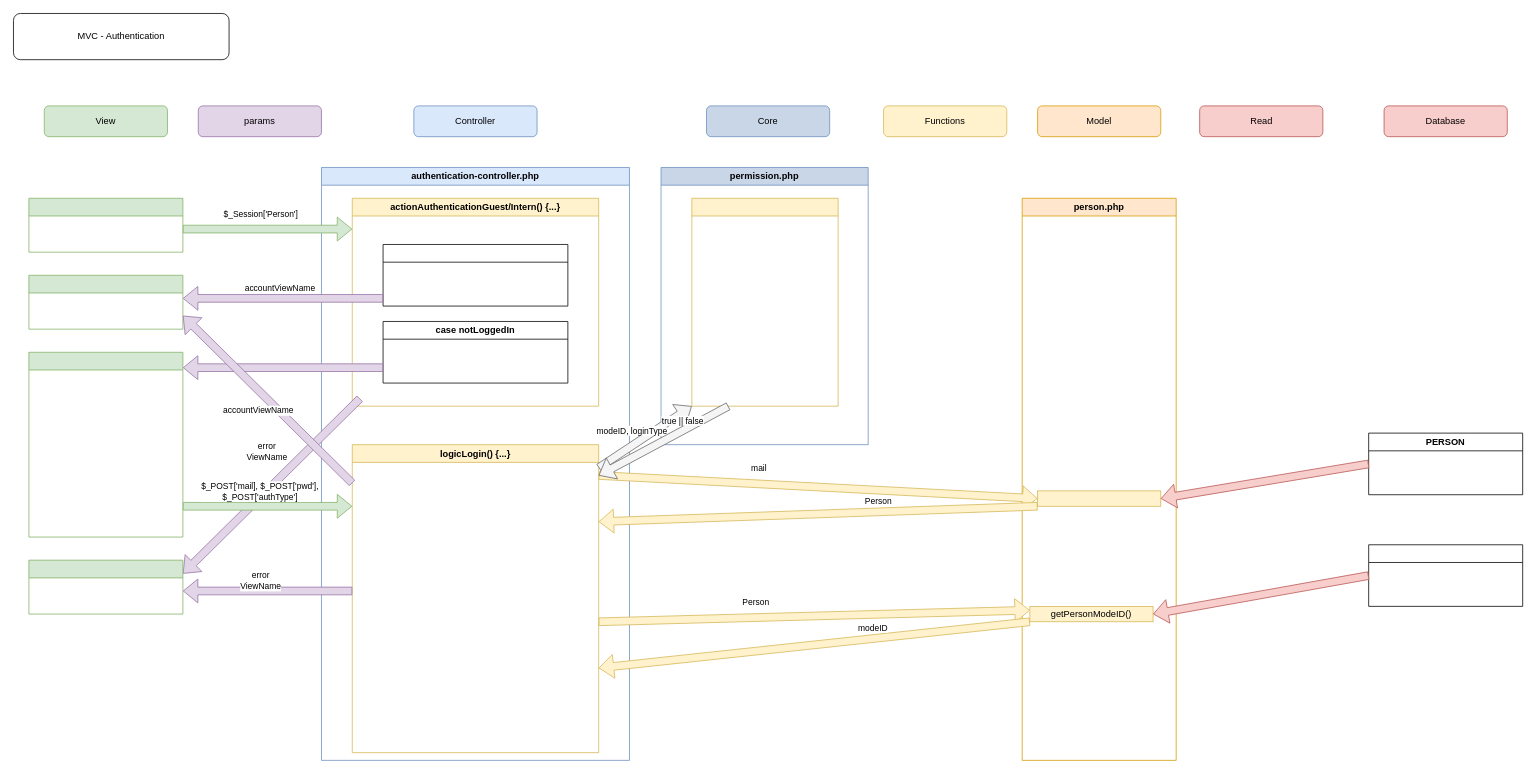
The diagram is 1536 pixels wide and 774 high, and some of its shapes have lost their labels. Each missing label, with the centre of its shape:
account/"...".php: pixel 105 302
authenticationGuest/Intern.php: pixel 105 444
case loggedIn: pixel 475 275
checkForLogin() {...}: pixel 764 302
error/"...".php: pixel 105 586
findByMail(): pixel 1099 498
home.php: pixel 105 225
PERSONMODE: pixel 1445 575
